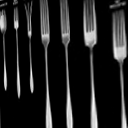Fork: (79, 3, 103, 128), (34, 2, 56, 128), (57, 2, 77, 128), (109, 3, 128, 128), (1, 8, 10, 92)
